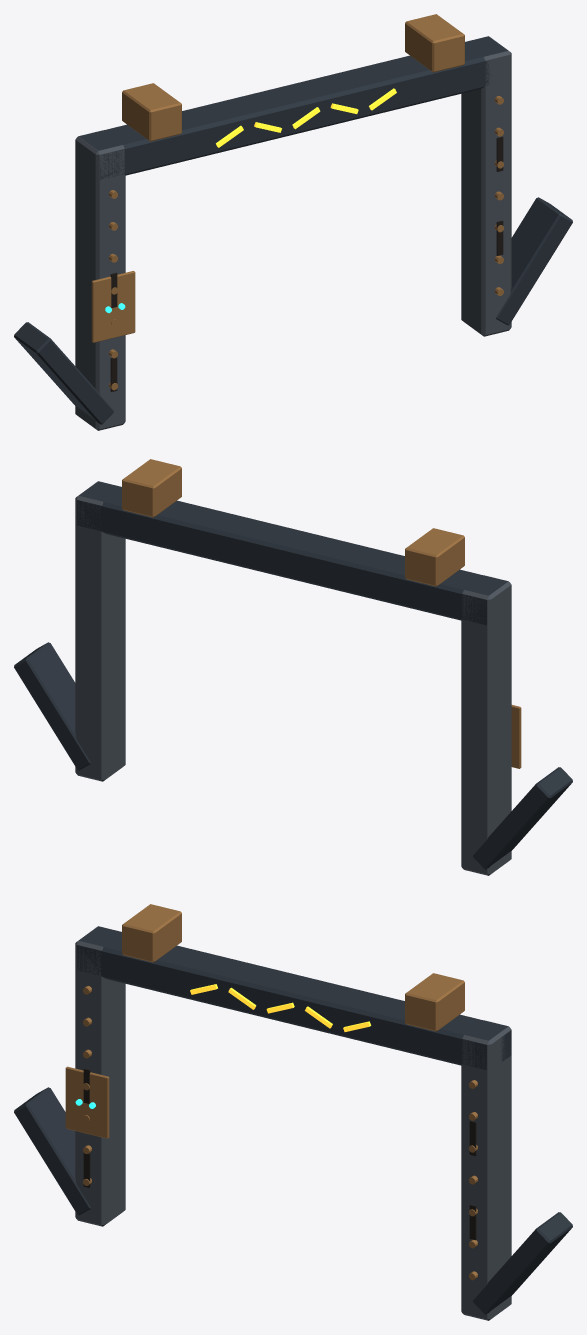
The model's file is runtime.glb.
3 views of the same model, one above another, from view 1: azimuth 30°, elevation 25°; view 2: azimuth 150°, elevation 25°; view 3: azimuth 330°, elevation 25° (orthographic).
Visible parts, largest first — view 1: kinetic-tide-machine-frame-v08_steel_nocol, kinetic-tide-machine-frame-v08_plate_nocol, kinetic-tide-machine-frame-v08_bronze_nocol, kinetic-tide-machine-frame-v08_weardark_nocol, kinetic-tide-machine-frame-v08_warningorange_nocol; view 2: kinetic-tide-machine-frame-v08_steel_nocol, kinetic-tide-machine-frame-v08_plate_nocol, kinetic-tide-machine-frame-v08_bronze_nocol; view 3: kinetic-tide-machine-frame-v08_steel_nocol, kinetic-tide-machine-frame-v08_plate_nocol, kinetic-tide-machine-frame-v08_bronze_nocol, kinetic-tide-machine-frame-v08_weardark_nocol, kinetic-tide-machine-frame-v08_warningorange_nocol.
Boxes of the visible parts, x1,y1,x2,y2 form: kinetic-tide-machine-frame-v08_steel_nocol: (14, 36, 572, 424); kinetic-tide-machine-frame-v08_plate_nocol: (75, 36, 511, 430); kinetic-tide-machine-frame-v08_bronze_nocol: (91, 14, 503, 390); kinetic-tide-machine-frame-v08_weardark_nocol: (110, 136, 503, 391); kinetic-tide-machine-frame-v08_warningorange_nocol: (216, 88, 396, 147); kinetic-tide-machine-frame-v08_steel_nocol: (14, 481, 572, 869); kinetic-tide-machine-frame-v08_plate_nocol: (75, 481, 511, 875); kinetic-tide-machine-frame-v08_bronze_nocol: (122, 459, 521, 768); kinetic-tide-machine-frame-v08_steel_nocol: (14, 926, 572, 1314); kinetic-tide-machine-frame-v08_plate_nocol: (75, 926, 511, 1320); kinetic-tide-machine-frame-v08_bronze_nocol: (65, 904, 477, 1280); kinetic-tide-machine-frame-v08_weardark_nocol: (83, 1068, 476, 1240); kinetic-tide-machine-frame-v08_warningorange_nocol: (190, 984, 371, 1031).
Size of the model in its own units: 14.45 by 8.01 by 1.39.
